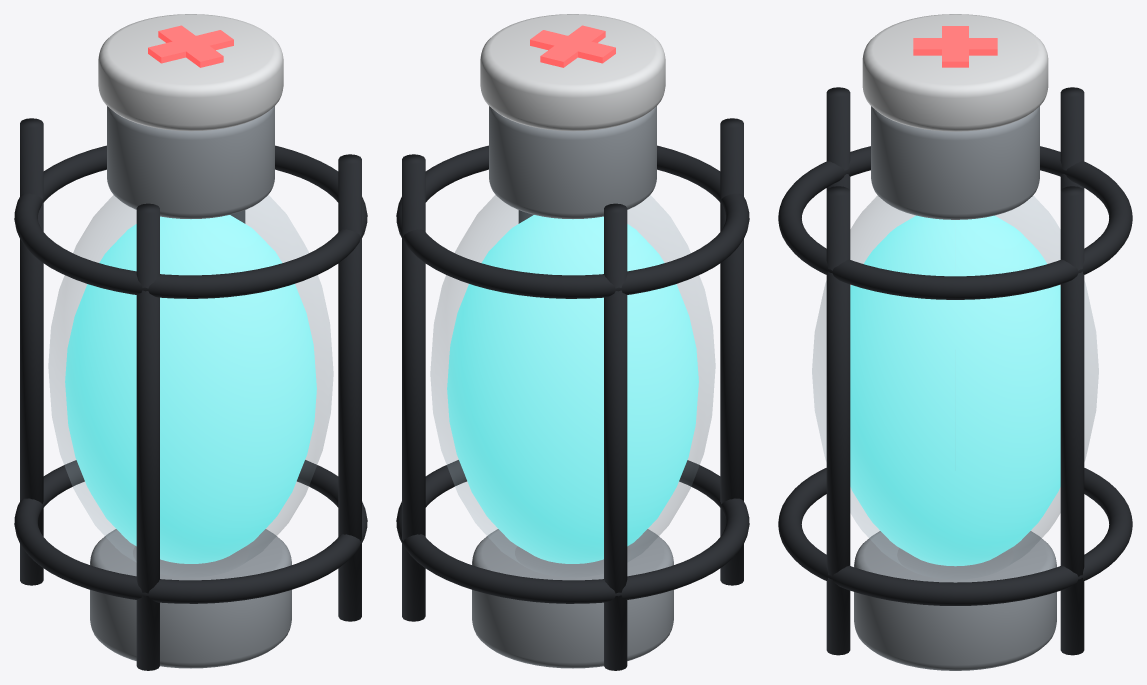
Rendered from nanogel.fbx.
3 views of the same model, side by side, from view 1: azimuth 30°, elevation 25°; view 2: azimuth 150°, elevation 25°; view 3: azimuth 270°, elevation 25° (orthographic).
Parts seen in each view (by area): view 1: Sphere.006, Sphere.005, Cylinder.039, Cylinder.037, Cylinder.038, Torus.037, Torus.036, Cylinder.042, Cylinder.043, Cylinder.041, Cube.014, Cube.015; view 2: Sphere.006, Sphere.005, Cylinder.039, Cylinder.037, Cylinder.038, Torus.037, Torus.036, Cylinder.041, Cylinder.040, Cylinder.042, Cube.014, Cube.015; view 3: Sphere.006, Sphere.005, Cylinder.037, Cylinder.039, Cylinder.038, Torus.037, Torus.036, Cylinder.040, Cylinder.043, Cylinder.041, Cylinder.042, Cube.014 (+1 smaller).
Boxes of the visible parts, x1,y1,x2,y2 form: Sphere.006: (48, 195, 333, 576); Sphere.005: (65, 215, 316, 563); Cylinder.039: (98, 14, 283, 131); Cylinder.037: (90, 529, 291, 668); Cylinder.038: (107, 106, 274, 218); Torus.037: (14, 145, 367, 298); Torus.036: (14, 460, 367, 603); Cylinder.042: (136, 203, 159, 670); Cylinder.043: (338, 154, 361, 621); Cylinder.041: (20, 118, 43, 585); Cube.014: (148, 30, 233, 63); Cube.015: (158, 25, 223, 67); Sphere.006: (430, 195, 715, 576); Sphere.005: (447, 215, 698, 563); Cylinder.039: (480, 14, 665, 131); Cylinder.037: (472, 529, 673, 668); Cylinder.038: (489, 106, 656, 218); Torus.037: (396, 145, 749, 298); Torus.036: (396, 460, 749, 603); Cylinder.041: (604, 203, 627, 670); Cylinder.040: (402, 154, 425, 621); Cylinder.042: (720, 118, 743, 585); Cube.014: (530, 30, 615, 63); Cube.015: (540, 25, 605, 67); Sphere.006: (812, 195, 1098, 578); Sphere.005: (850, 215, 1060, 566); Cylinder.037: (854, 531, 1056, 670); Cylinder.039: (862, 14, 1048, 131); Cylinder.038: (871, 106, 1039, 219); Torus.037: (778, 146, 1132, 299); Torus.036: (778, 468, 1132, 605); Cylinder.040: (1060, 186, 1084, 655); Cylinder.043: (826, 186, 850, 655); Cylinder.041: (1060, 87, 1084, 190); Cylinder.042: (826, 87, 850, 190); Cube.014: (942, 26, 968, 67).
Size of the model in its own units: 21 by 38.4 by 21.
